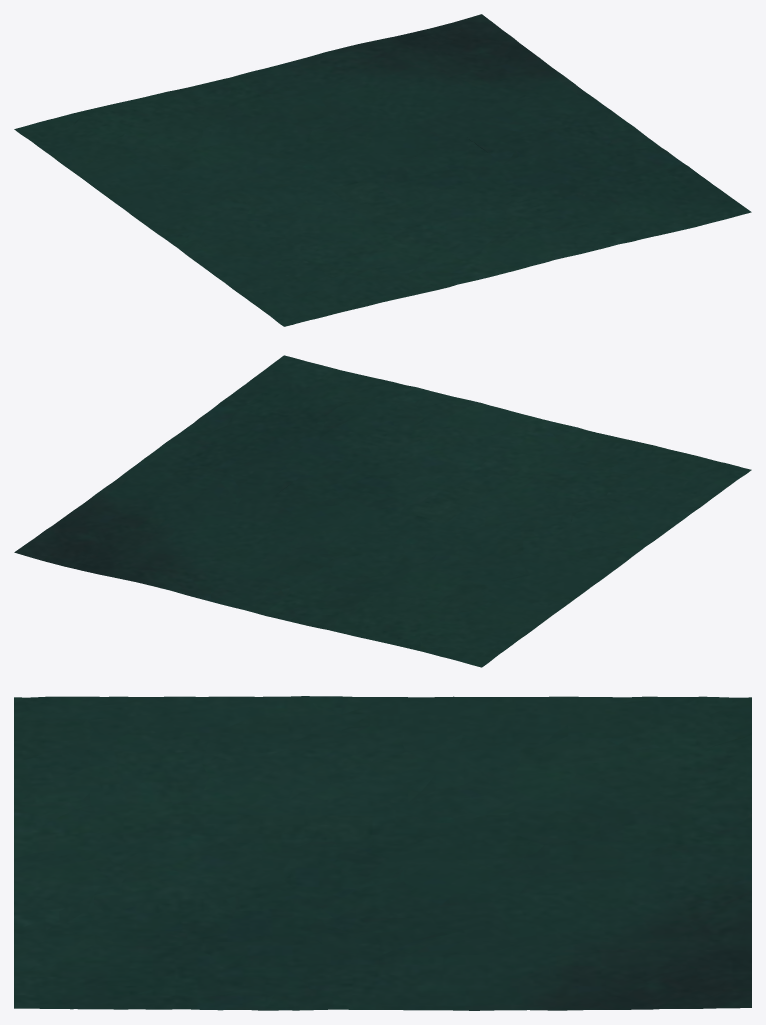
The picture shows the model from 3 angles, top to bottom: view 1: azimuth 30°, elevation 25°; view 2: azimuth 150°, elevation 25°; view 3: azimuth 270°, elevation 25°; orthographic projection. The views are drawn at different scales.
Size of the model in its own units: 104 by 0.6386 by 104.
3 materials, 3 textured.
